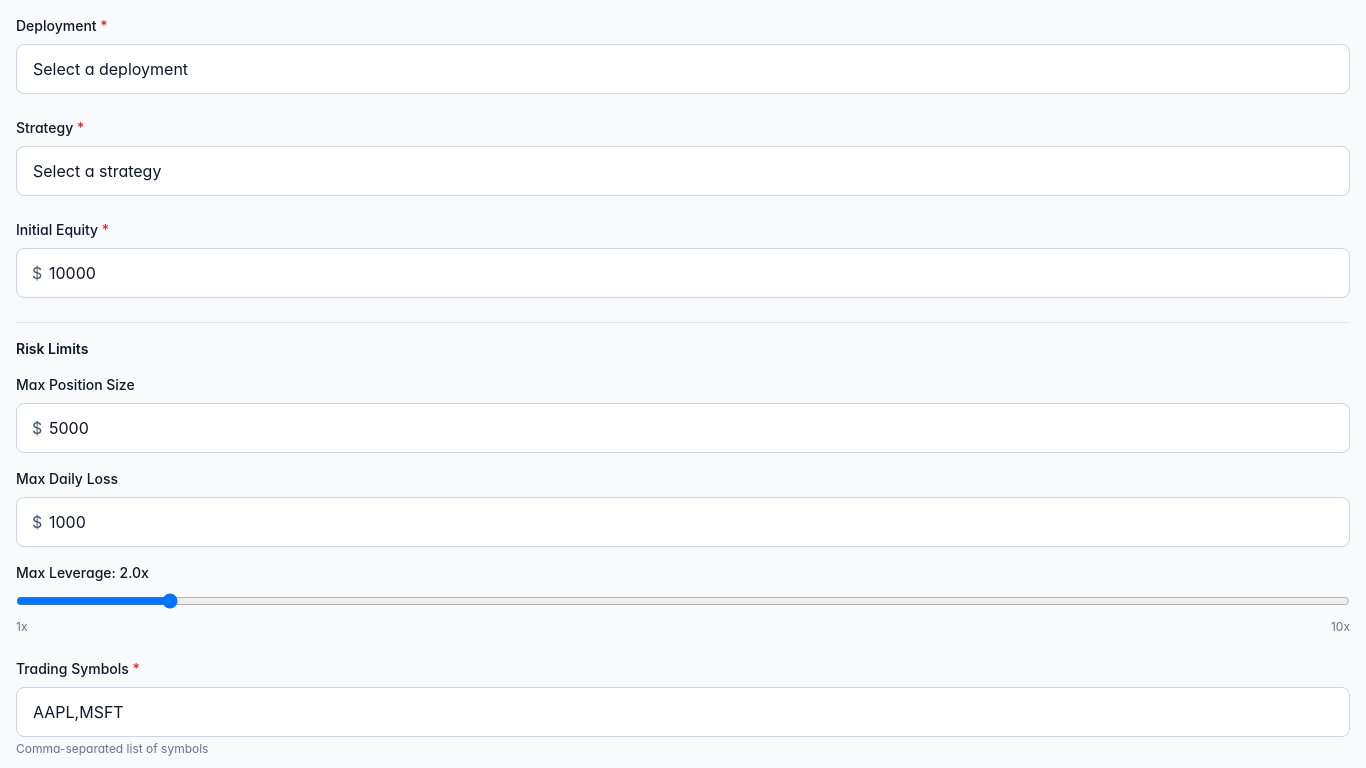
Test: PaperTradingForm › should open deployment picker when deployment button clicked
The image size is (1366, 768).
Step 1. Click the button with aria-label "select deployment" → (111, 69), box [16,44,1350,94]
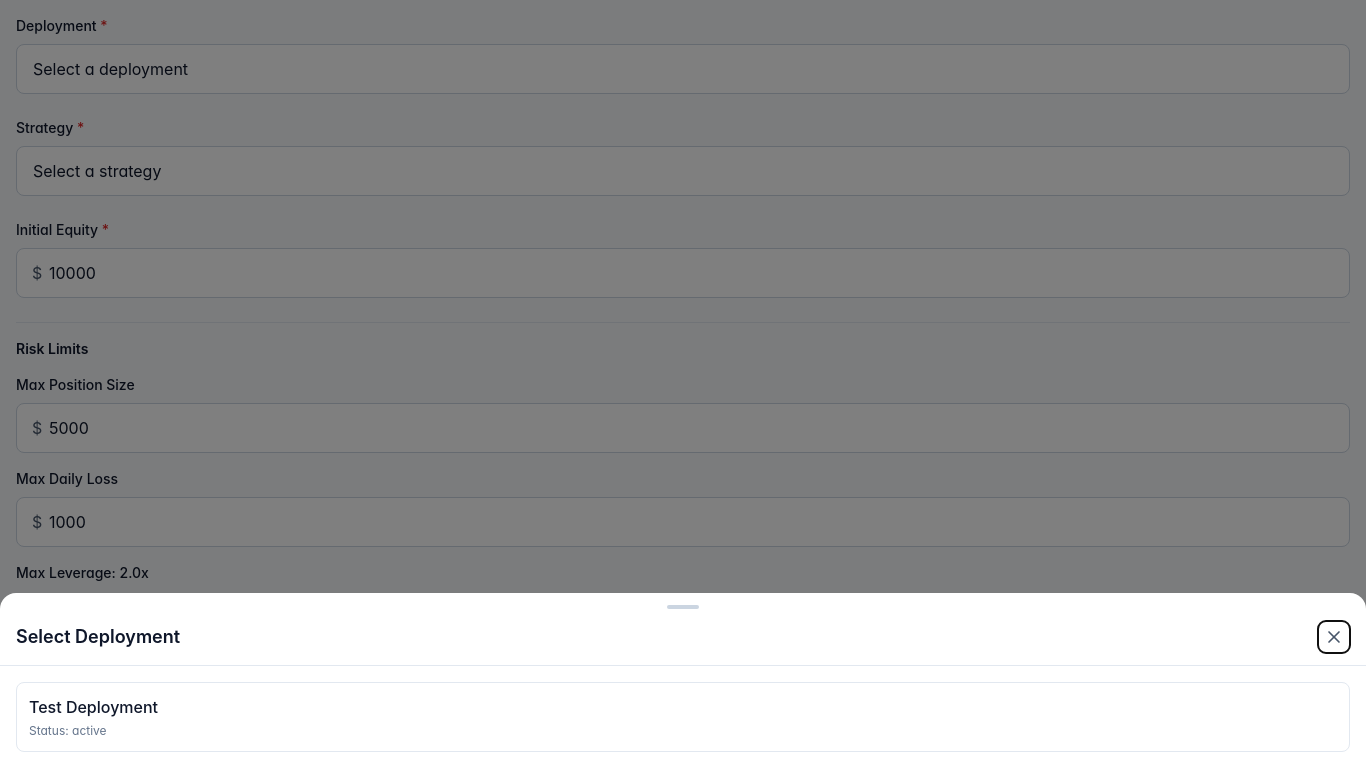
Result: the text "Test Deployment" is shown at [29,697,158,717]
